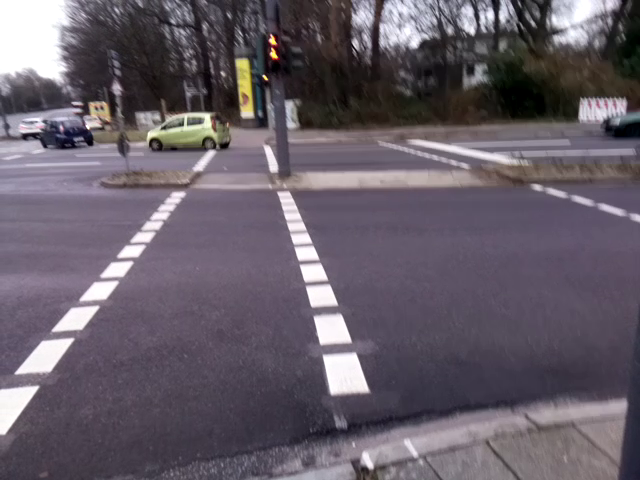car: (142, 108, 234, 152)
